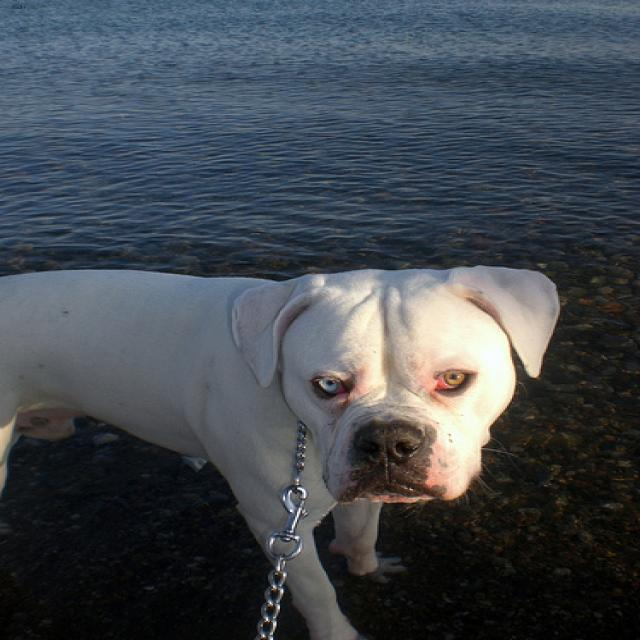dog-american_bulldog: (2, 257, 565, 637)
